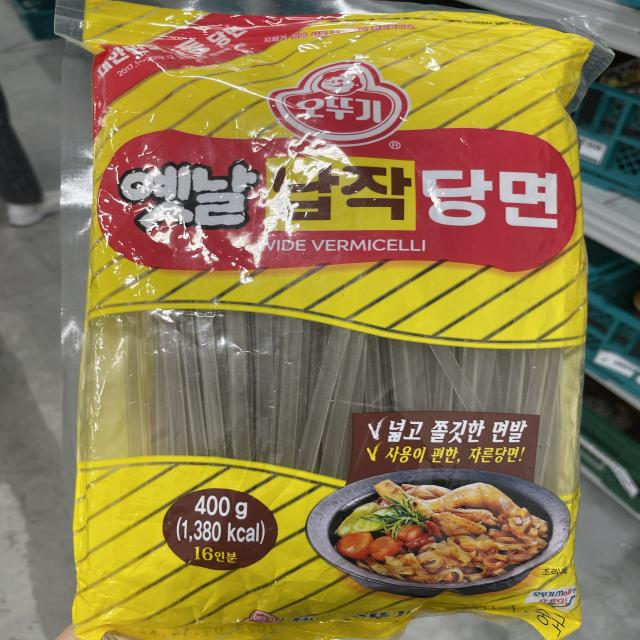object_name: (68, 2, 580, 632)
